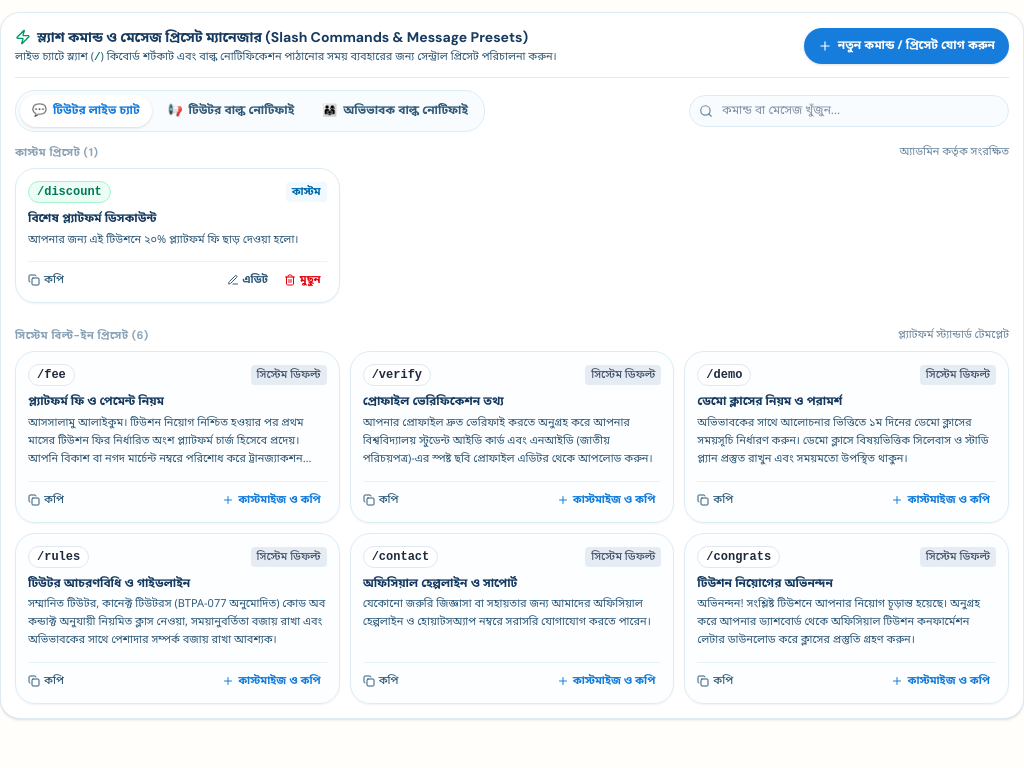
Test: AdminSlashPresetsManager › allows customizing a system default preset by clicking customize and copy
The width and height of the screenshot is (1024, 768).
Click the button "কাস্টমাইজ ও কপি" below "প্ল্যাটফর্ম ফি ও পেমেন্ট নিয়ম": [271, 500] box [216,490,327,510]
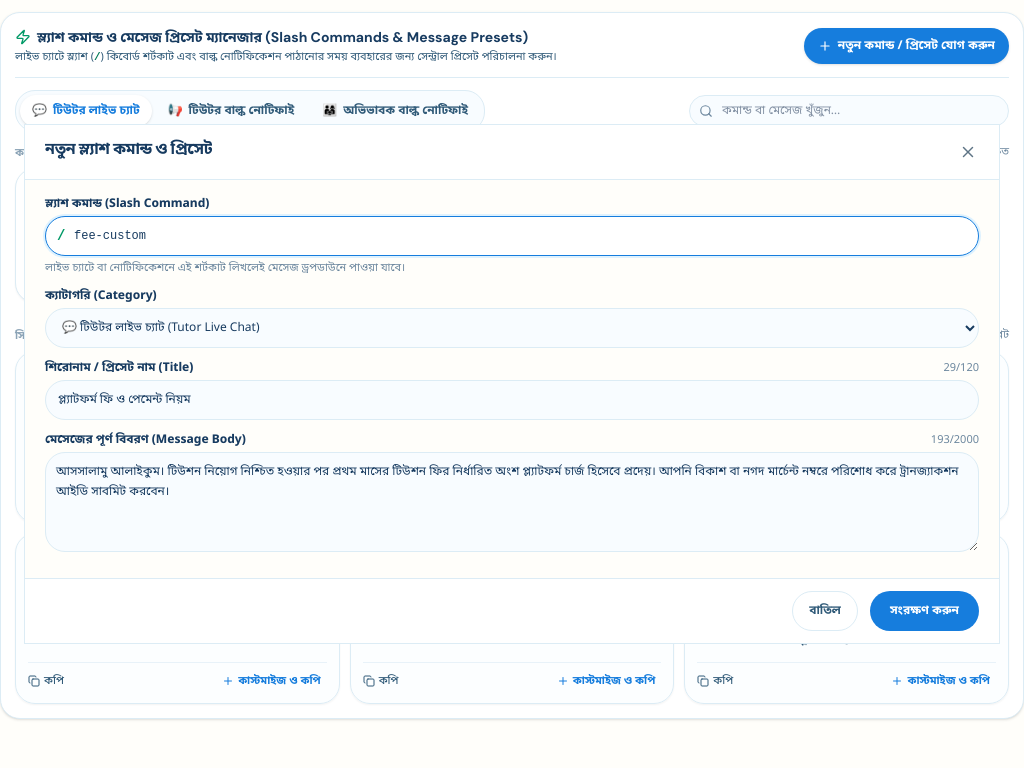
Check: the heading "নতুন স্ল্যাশ কমান্ড ও প্রিসেট" is shown, box [45,137,212,161]
